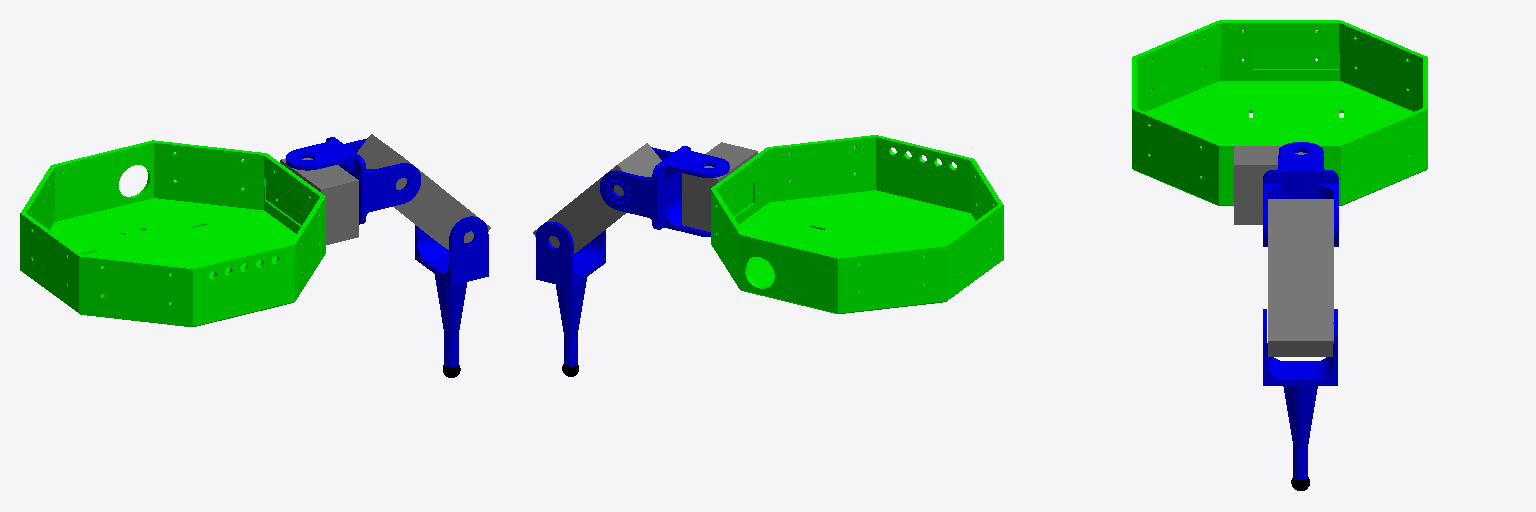
URDF robot description (hexapod):
<?xml version="1.0" ?>

<robot name="hexapod">
  <link name="box">
    <!-- We count all component within the box as the box
    (NanoPi, pcb, connectors included) -->
    <collision>
      <origin xyz="0 0 0.203" rpy="0 0 0" />
      <geometry>
        <!-- Putting here an octogone might be a nice optimization -->
        <mesh filename="meshes/box.stl" scale="0.001 0.001 0.001" />
      </geometry>
    </collision>
    <visual>
      <origin xyz="0 0 0.203" rpy="0 0 0" />
      <geometry>
        <mesh filename="meshes/box.stl" scale="0.001 0.001 0.001" />
      </geometry>
      <material name="Green">
        <color rgba="0.0 1.0 0.0 1.0"/>
      </material>
    </visual>
    <inertial>
      <origin xyz="0 0 0.203" rpy="0 0 0" />
      <mass value="0.667" />
      <!-- Let's consider the core of the robot homogeneous -->
      <inertia ixx="0.0011546458242062" ixy="-0.0000000000020962" ixz="-0.0000000000002841" iyy="0.0011546459440935" iyz="-0.0000000000000000" izz="0.0021742915988320" />
    </inertial>
  </link>

  <!-- One Leg -->
  <joint name="fixed_box_servomotor_0" type="fixed">
    <origin xyz="0.092225 0 0.2041193" rpy="0 0 0" />
    <parent link="box" />
    <child link="servomotor_0" />
  </joint>
  <link name="servomotor_0">
    <collision>
      <origin xyz="0 -0.002 0" rpy="0 0 0" />
      <geometry>
        <box size="0.024 0.0451 0.0347" />
      </geometry>
    </collision>
    <visual>
      <origin xyz="0 -0.002 0" rpy="0 0 0" />
      <geometry>
        <box size="0.024 0.0451 0.0347" />
      </geometry>
      <material name="Grey">
        <color rgba="0.5 0.5 0.5 1.0"/>
      </material>
    </visual>
    <inertial>
      <origin xyz="0 0 0" rpy="0 0 0" />
      <mass value="0.047" />
      <!-- Let's consider the servomotor homogeneous -->
      <inertia ixx="0.000269" ixy="0" ixz="0" iyy="0.00014834" iyz="0" izz="0.0002175" />
    </inertial>
  </link>
  <joint name="servomotor_0" type="revolute">
    <origin xyz="0 0.011 0" rpy="0 0 0" />
    <parent link="servomotor_0" />
    <child link="joint_0" />
    <axis xyz="0 0 1" />
    <dynamics damping="0" friction="0" /> <!-- TODO -->
    <!-- Herkulex : 361.4°/s i.e. 6.308rad/s, 12kg.cm i.e. 1.18Nm -->
    <limit effort="1.18" velocity="6.308" lower="-0.46" upper="0.46" /> <!-- TODO -->
  </joint>
  <link name="joint_0">
    <collision>
      <origin xyz="0.02432 0 0" rpy="0 0 0" />
      <geometry>
        <box size="0.025 0.040 0.040" />
      </geometry>
    </collision>
    <visual>
      <origin xyz="0.02432 0 0" rpy="0 0 0" />
      <geometry>
        <mesh filename="meshes/joint.stl" scale="0.001 0.001 0.001" />
      </geometry>
      <material name="Blue">
        <color rgba="0.0 0.0 1.0 1.0"/>
      </material>
    </visual>
    <inertial>
      <origin xyz="0.02432 0 0" rpy="0 0 0" />
      <mass value="0.011" />
      <inertia ixx="0.0000036847327983" ixy="0.0000000282538243" ixz="0.0000000324768551" iyy="0.0000040337912502" iyz="-0.0000000006925946" izz="0.0000040276641002" />
    </inertial>
  </link>
  <joint name="servomotor_1" type="revolute">
    <origin xyz="0.049 0 0" rpy="1.5707963267948966 -0.7853981633974483 0" />
    <parent link="joint_0" />
    <child link="servomotor_1" />
    <axis xyz="0 0 1" />
    <dynamics damping="0" friction="0" /> <!-- TODO -->
    <!-- Herkulex : 361.4°/s i.e. 6.308rad/s, 12kg.cm i.e. 1.18Nm -->
    <limit effort="1.18" velocity="6.308" lower="-1.57" upper="1.57" /> <!-- TODO -->
  </joint>
  <link name="servomotor_1">
    <collision>
      <origin xyz="0 -0.0127 0" rpy="0 0 0" />
      <geometry>
        <box size="0.024 0.0451 0.0347" />
      </geometry>
    </collision>
    <visual>
      <origin xyz="0 -0.0127 0" rpy="0 0 0" />
      <geometry>
        <box size="0.024 0.0451 0.0347" />
      </geometry>
      <material name="Grey">
        <color rgba="0.5 0.5 0.5 1.0"/>
      </material>
    </visual>
    <inertial>
      <origin xyz="0 -0.0107 0" rpy="0 0 0" />
      <mass value="0.047" />
      <!-- Let's consider the servomotor homogeneous -->
      <inertia ixx="0.000269" ixy="0" ixz="0" iyy="0.00014834" iyz="0" izz="0.0002175" />
    </inertial>
  </link>
  <joint name="fixed_servomotor_1_servomotor_2" type="fixed">
    <origin xyz="0 -0.0495 0" rpy="0 0 3.141592653589793" />
    <parent link="servomotor_1" />
    <child link="servomotor_2" />
  </joint>
  <link name="servomotor_2">
    <collision>
      <origin xyz="0 -0.002 0" rpy="0 0 0" />
      <geometry>
        <box size="0.024 0.0451 0.0347" />
      </geometry>
    </collision>
    <visual>
      <origin xyz="0 -0.002 0" rpy="0 0 0" />
      <geometry>
        <box size="0.024 0.0451 0.0347" />
      </geometry>
      <material name="Grey">
        <color rgba="0.5 0.5 0.5 1.0"/>
      </material>
    </visual>
    <inertial>
      <origin xyz="0 0 0" rpy="0 0 0" />
      <mass value="0.047" />
      <!-- Let's consider the servomotor homogeneous -->
      <inertia ixx="0.000269" ixy="0" ixz="0" iyy="0.00014834" iyz="0" izz="0.0002175" />
    </inertial>
  </link>
  <joint name="servomotor_2" type="revolute">
    <origin xyz="0 0.0107 0" rpy="0 0 -0.7853981633974483" />
    <parent link="servomotor_2" />
    <child link="foot_0" />
    <axis xyz="0 0 1" />
    <dynamics damping="0" friction="0" /> <!-- TODO -->
    <!-- Herkulex : 361.4°/s i.e. 6.308rad/s, 12kg.cm i.e. 1.18Nm -->
    <limit effort="1.18" velocity="6.308" lower="-1.57" upper="1.57" /> <!-- TODO -->
  </joint>
  <link name="foot_0">
    <collision>
      <origin xyz="0 0.0406 0" rpy="1.5707963267948966 0 0" />
      <geometry>
        <box size="0.024 0.040 0.08" />
      </geometry>
    </collision>
    <visual>
      <origin xyz="0 0.031 0" rpy="1.5707963267948966 0 0" />
      <geometry>
        <mesh filename="meshes/foot.stl" scale="0.001 0.001 0.001" />
      </geometry>
      <material name="Blue">
        <color rgba="0.0 0.0 1.0 1.0"/>
      </material>
    </visual>
    <inertial>
      <origin xyz="0 0.031 0" rpy="1.5707963267948966 0 0" />
      <mass value="0.0105" />
      <inertia ixx="0.0000056249300217" ixy="-0.0000000007514029" ixz="0.0000000005912555" iyy="0.0000045683501941" iyz="0.0000000202704742" izz="0.0000017085021793" />
    </inertial>
  </link>
  <joint name="fixed_foot_0_endcap_0" type="fixed">
    <origin xyz="0 0.088 0" rpy="0 0 0" />
    <parent link="foot_0" />
    <child link="endcap_0" />
  </joint>
  <link name="endcap_0">
    <collision>
      <origin xyz="0 0 0" rpy="0 0 0" />
      <geometry>
        <sphere radius="0.005" />
      </geometry>
    </collision>
    <visual>
      <origin xyz="0 0 0" rpy="0 0 0" />
      <geometry>
        <sphere radius="0.005" />
      </geometry>
      <material name="BlackRubber">
        <color rgba="0.0 0.0 0.0 1.0"/>
      </material>
    </visual>
    <inertial>
      <origin xyz="0 0 0" rpy="0 0 0" />
      <mass value="0.0005" />
      <!-- endcap has a negligeable inertia -->
      <inertia ixx="0.0" ixy="0.0" ixz="0.0" iyy="0.0" iyz="0.0" izz="0.0" />
    </inertial>
    <contact>
      <lateral_friction value="1.0"/> <!-- TODO -->
      <stiffness value="30000"/> <!-- TODO -->
      <damping value="1000"/> <!-- TODO -->
    </contact>
  </link>
</robot>

--- Facts derived from the render (not from the file) ---
3 views of the same robot in one strip: view 1: azimuth 30°, elevation 25°; view 2: azimuth 150°, elevation 25°; view 3: azimuth 270°, elevation 25° (orthographic).
Model hexapod with 7 links and 6 joints (3 revolute, 3 fixed), rooted at box, posed every joint at zero.
Visible links, largest first — view 1: box, foot_0, joint_0, servomotor_0, servomotor_1, servomotor_2; view 2: box, joint_0, foot_0, servomotor_0, servomotor_1, servomotor_2; view 3: box, servomotor_1, servomotor_2, foot_0, joint_0, servomotor_0.
Link boxes in pixels (bbox=[...]): box: bbox=[20, 140, 325, 326]; foot_0: bbox=[415, 216, 488, 367]; joint_0: bbox=[286, 137, 420, 224]; servomotor_0: bbox=[280, 158, 358, 244]; servomotor_1: bbox=[357, 134, 451, 230]; servomotor_2: bbox=[393, 190, 490, 249]; box: bbox=[711, 135, 1003, 313]; joint_0: bbox=[600, 146, 729, 236]; foot_0: bbox=[536, 222, 605, 366]; servomotor_0: bbox=[682, 142, 757, 231]; servomotor_1: bbox=[571, 143, 661, 235]; servomotor_2: bbox=[533, 194, 625, 253]; box: bbox=[1132, 20, 1427, 205]; servomotor_1: bbox=[1268, 199, 1333, 278]; servomotor_2: bbox=[1268, 261, 1333, 356]; foot_0: bbox=[1263, 309, 1337, 479]; joint_0: bbox=[1263, 142, 1338, 246]; servomotor_0: bbox=[1234, 146, 1306, 224].
Size in the robot's own frame: 0.2778 by 0.1571 by 0.1554 metres.
Meshes: 3 distinct files referenced, 3 mesh visuals loaded (3 binary STL).